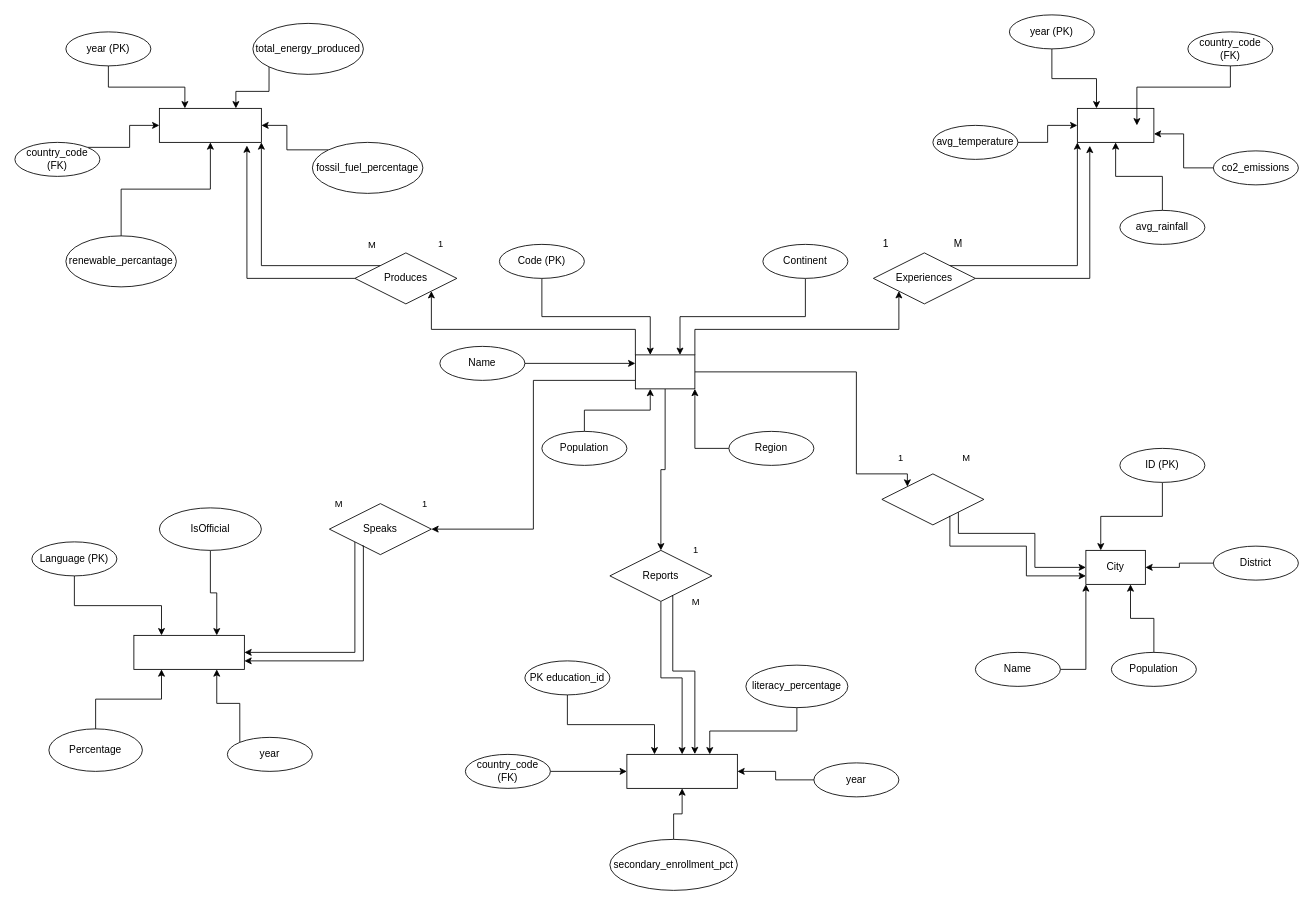
Image size: 1313x905. Some labels were removed from this diagram. The shapes that lost their labels are listed below. From the top down, each one's box as (x1, y1, x2, y2) in pixels, then its label:
(159, 108, 261, 142): Energy_Production
(1077, 108, 1154, 142): Climate_Data
(635, 354, 695, 389): Country
(881, 473, 984, 525): Contains
(133, 635, 244, 669): CountryLanguage
(626, 754, 737, 788): Education_Indicators
